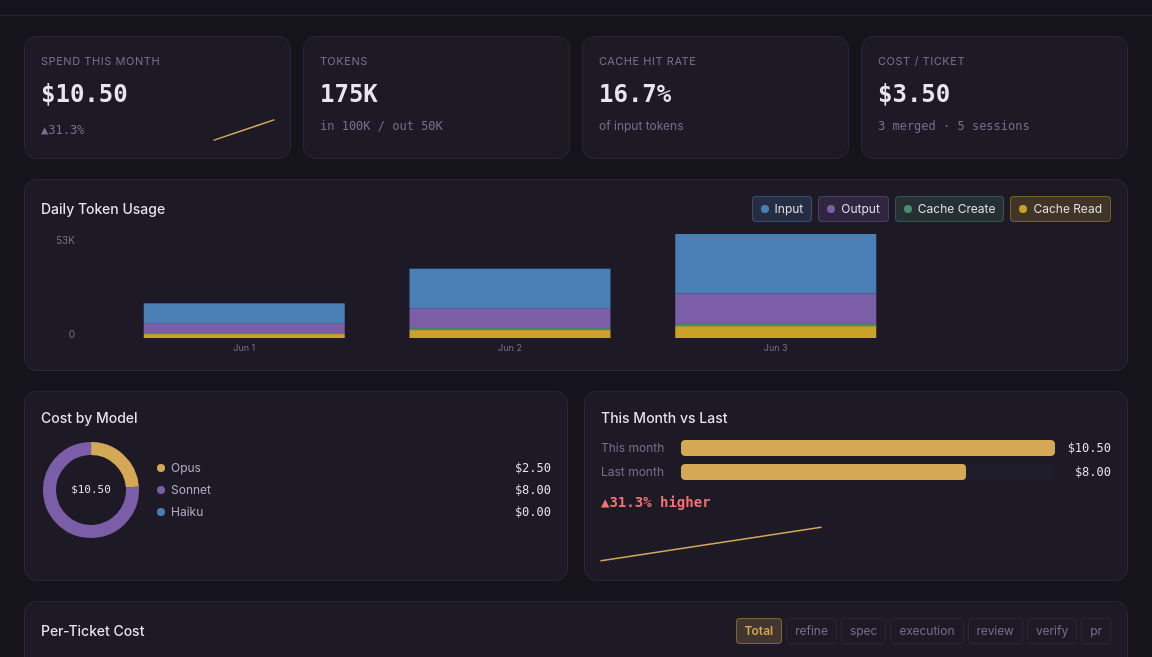
Test: TelemetryView › Per-ticket sort › clicking stage chip changes right-hand value to stage cost
What coordinates should you click on to do the following:
click the button with test id "sort-execution"
I would click on:
 (927, 630)
Its box is 890,618 -> 964,644.
(page scrolled)
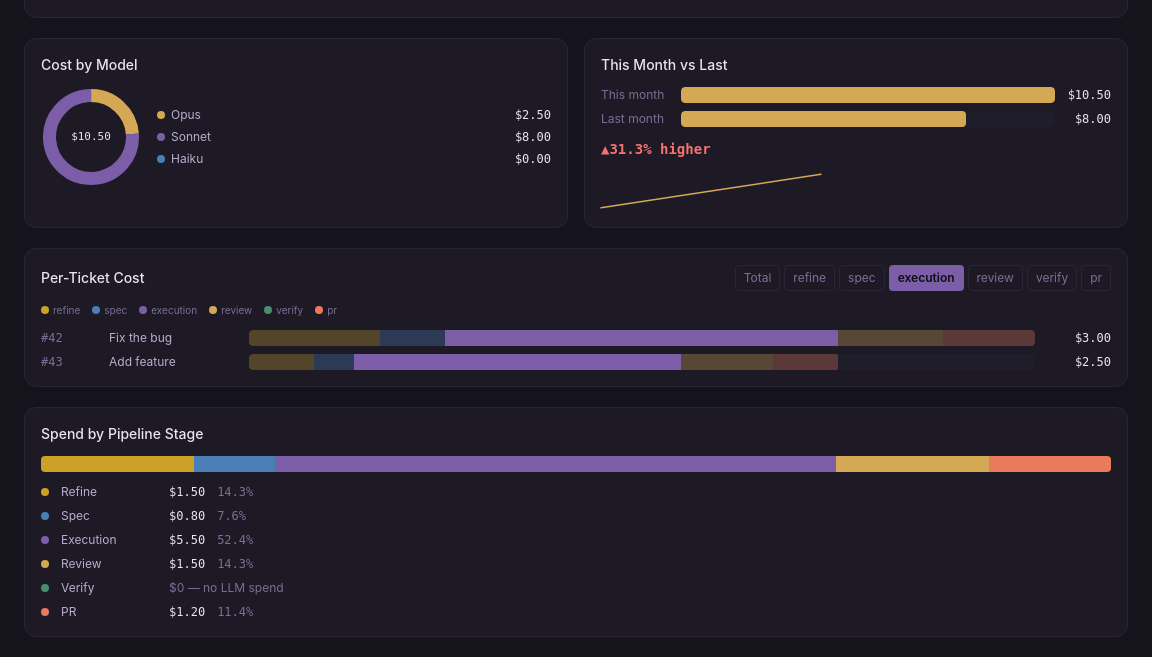
Check: the text with test id "ticket-cost-42" reads "$3.00", box 1075,330 -> 1111,344
